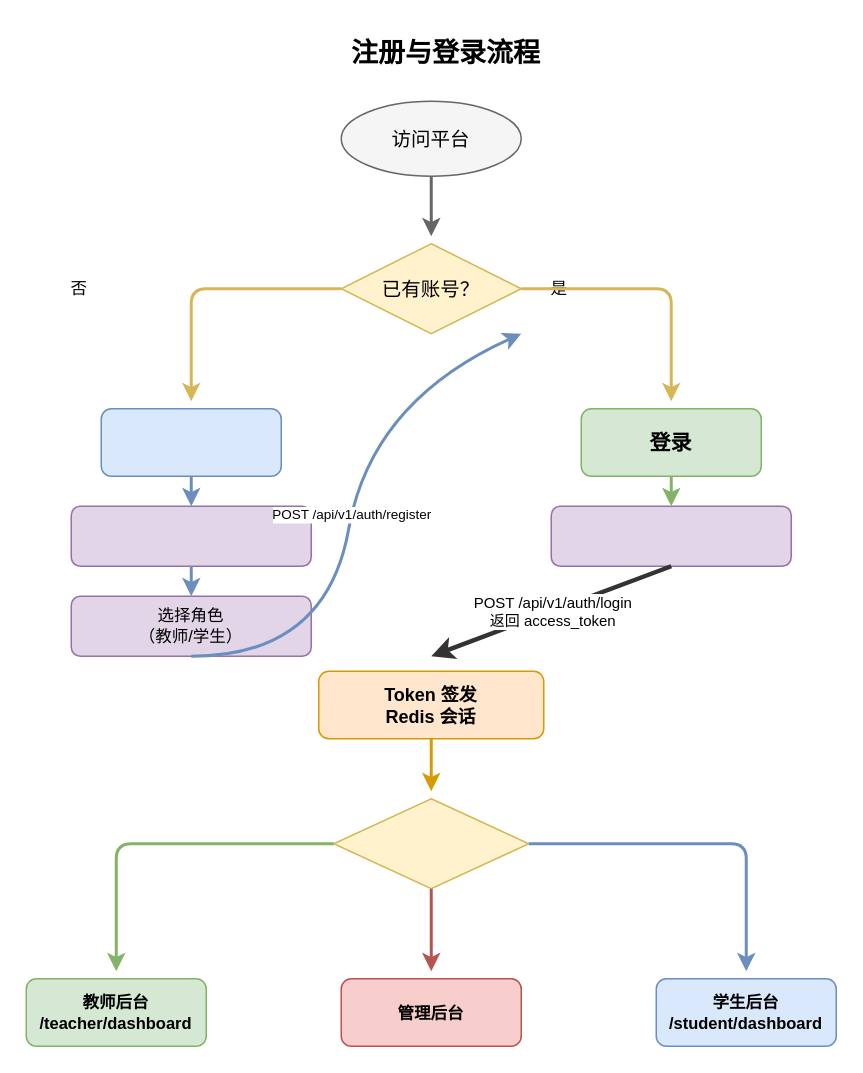
The diagram is 863 pixels wide and 1073 high, and some of its shapes have lost their labels. Each missing label, with the centre of its shape:
填写信息 （用户名/邮箱/密码）: pixel 190 535
注册: pixel 190 441
角色路由分发: pixel 430 843
输入账号密码: pixel 670 535
